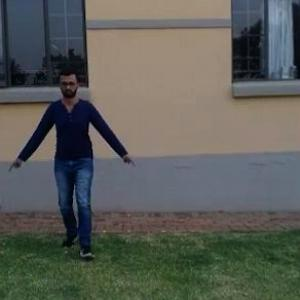land: (0, 66, 134, 259)
